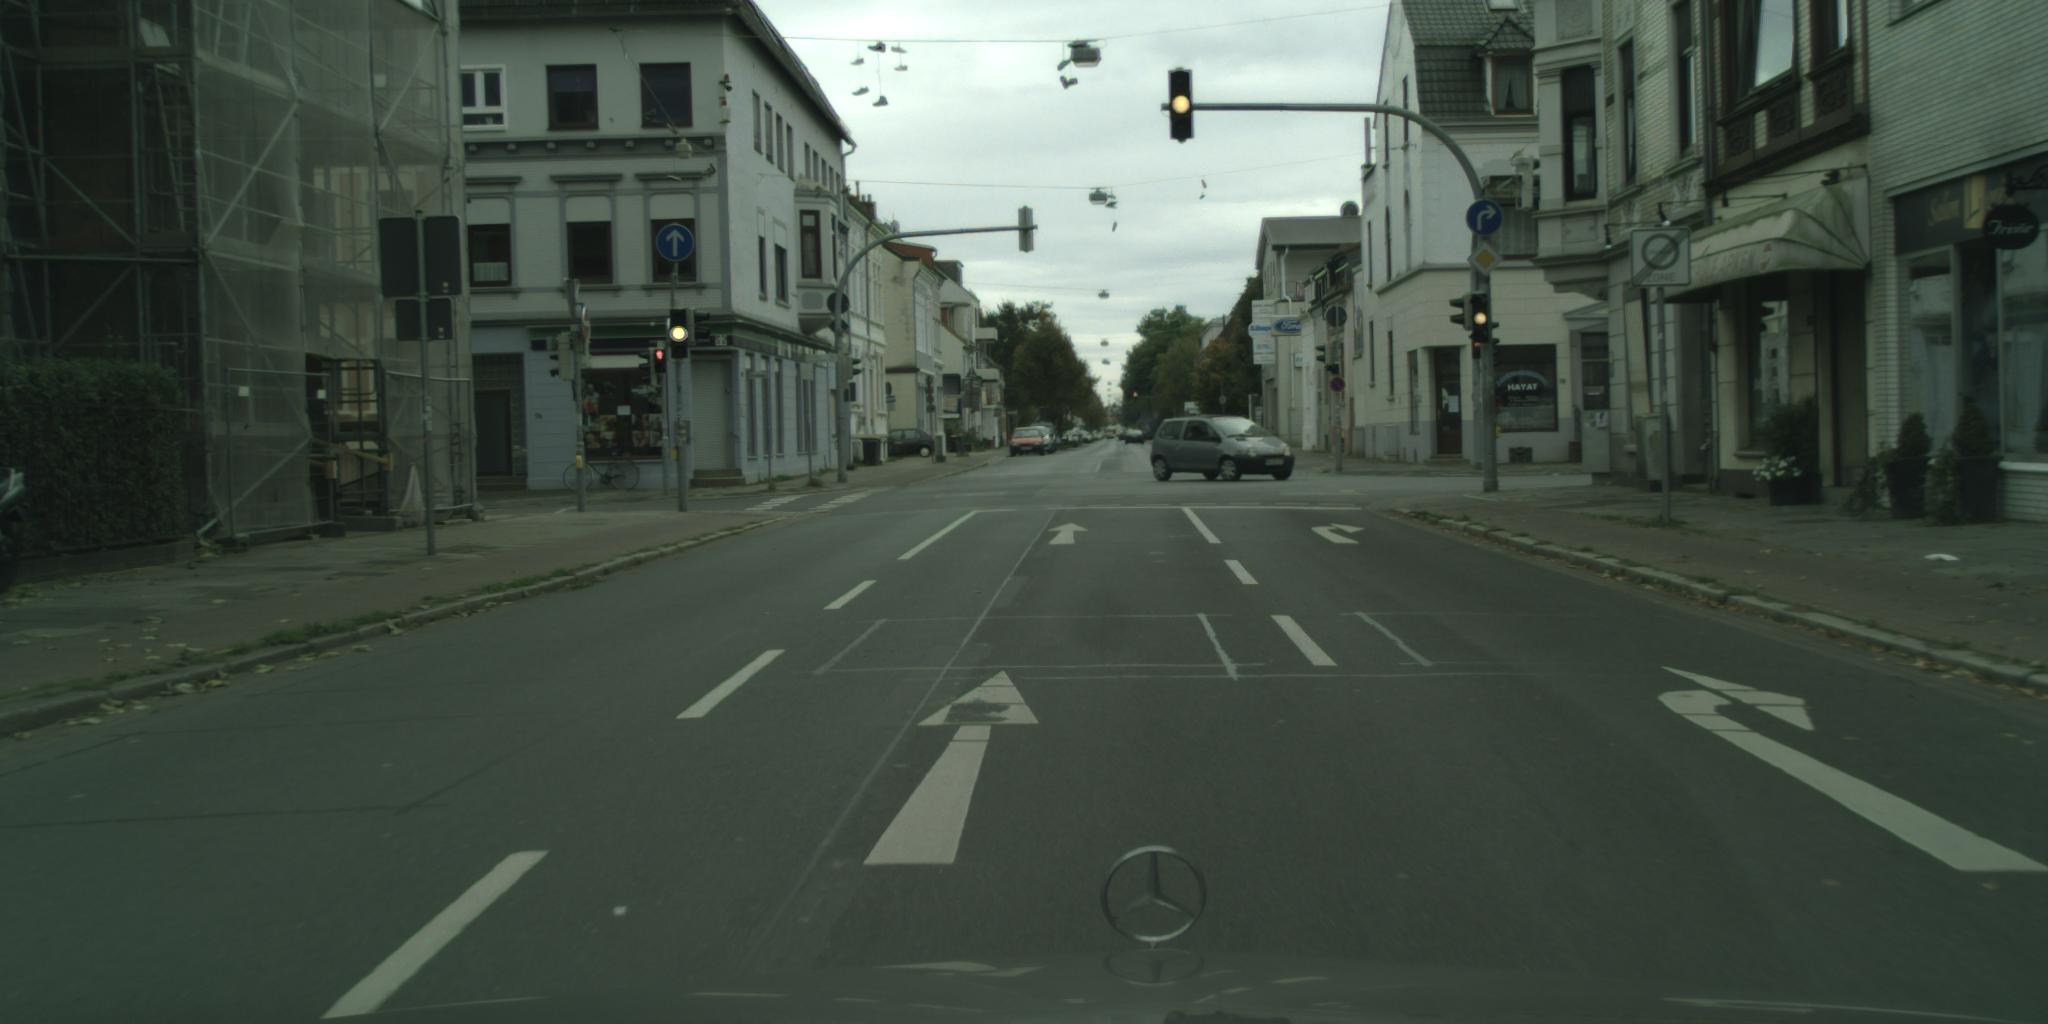bicycle: (562, 445, 643, 492)
car: (1149, 415, 1294, 482), (882, 428, 938, 458)
